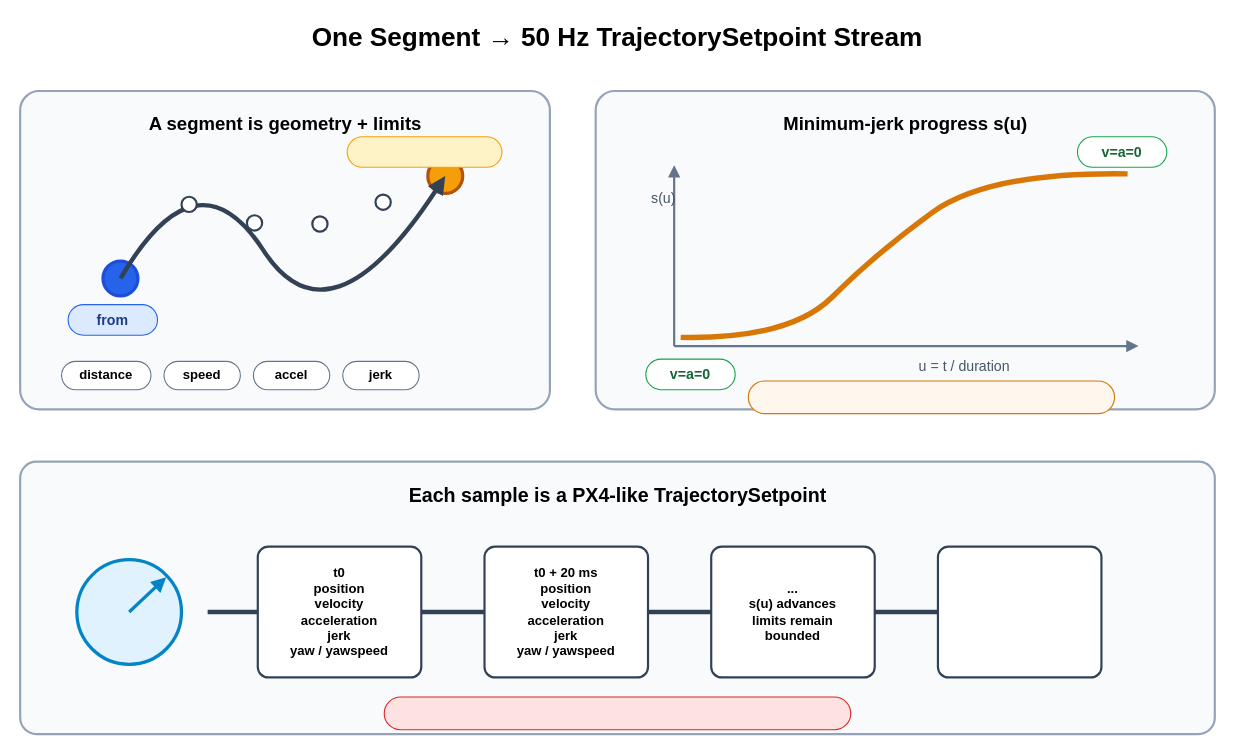
This 1234x753 diagram has some shape labels left out. Here are the shapes that lost their labels. From the top down, the centre of each, then its label:
pixel 424 151: to / next waypoint
pixel 931 397: duration = max(speed, accel, jerk, yaw limits)
pixel 129 611: 50 Hz
pixel 1019 611: segment end velocity = 0 acceleration = 0 next segment or hold
pixel 617 713: hold_s > 0 adds stationary samples at the waypoint
